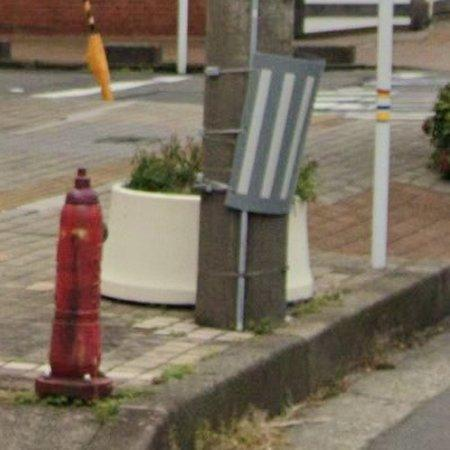a fire hydrant: (35, 168, 113, 400)
